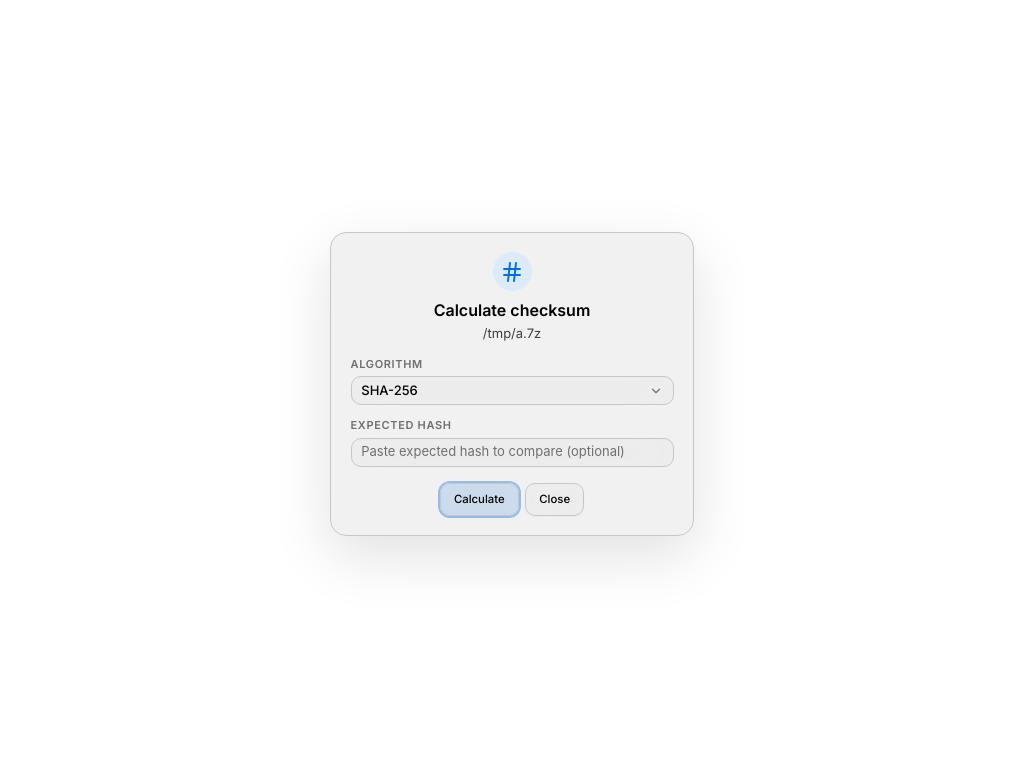
Test case: ChecksumDialog › should_report_a_mismatch
In the field labelled "Expected hash": point(512, 452) [350,438,674,467], type "00"
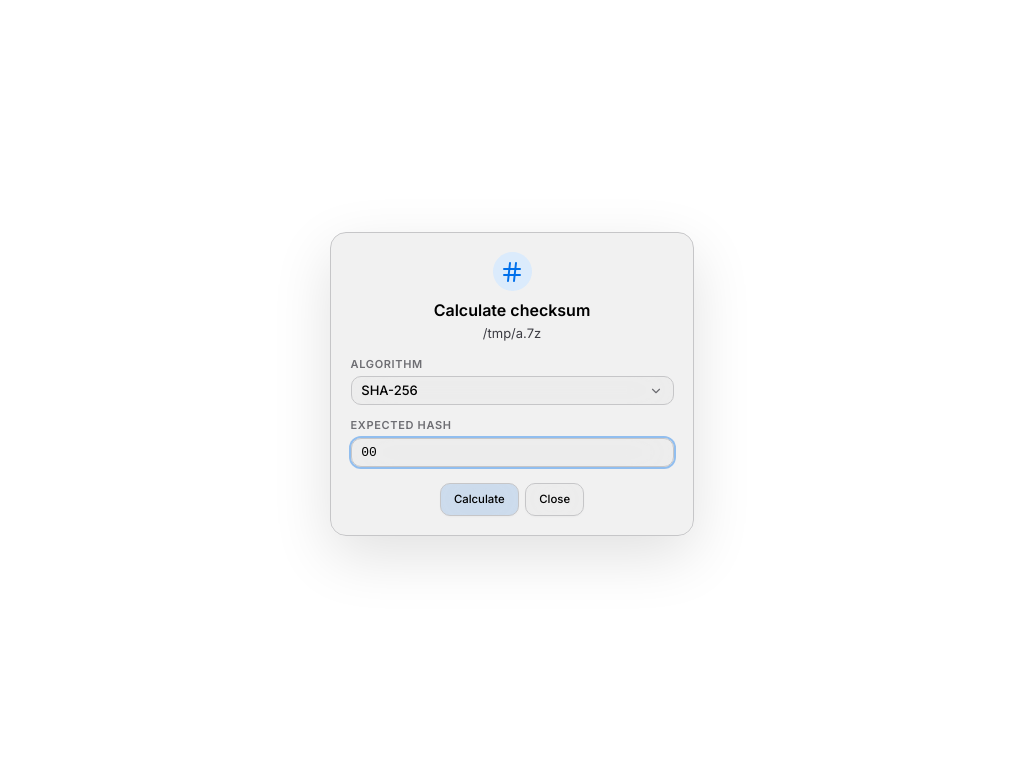
Click the button "Calculate": point(479, 500) [440,483,519,516]
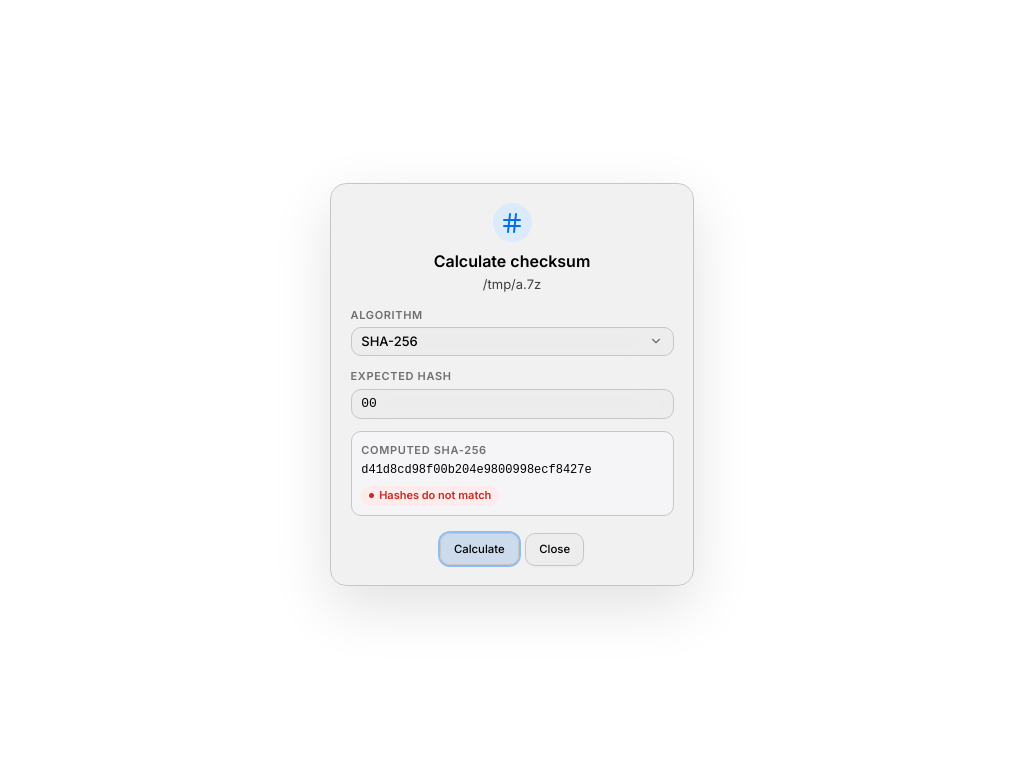
expect the text "Hashes do not match" is shown: met, box [361,486,500,506]
